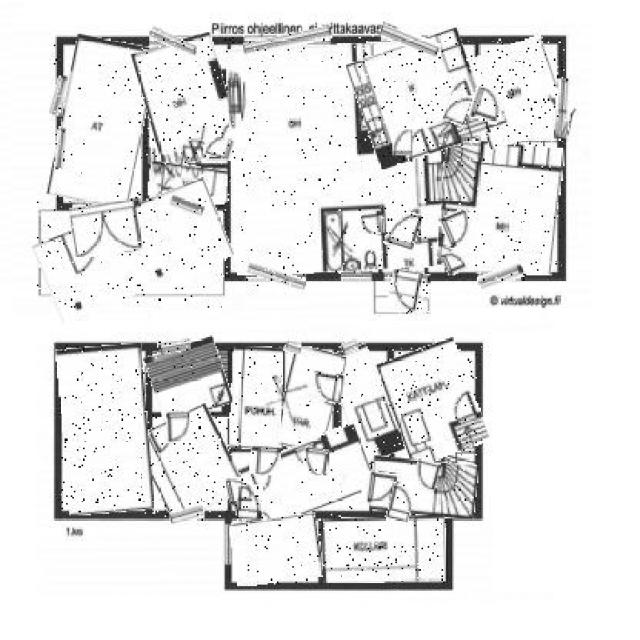door: (70, 198, 144, 256), (388, 271, 429, 314), (385, 211, 420, 251), (470, 88, 504, 123), (442, 211, 476, 246), (363, 474, 400, 504), (310, 372, 344, 403), (388, 483, 414, 523), (445, 92, 472, 126), (449, 398, 474, 434), (239, 486, 263, 520), (251, 448, 280, 475), (414, 460, 440, 489), (166, 411, 189, 443), (204, 136, 236, 158), (443, 249, 468, 274), (228, 477, 252, 503), (305, 448, 329, 474), (392, 130, 412, 156), (363, 212, 382, 234)
window: (243, 31, 332, 52), (378, 28, 440, 50), (246, 266, 306, 286), (151, 31, 200, 51), (478, 266, 524, 286), (557, 78, 569, 138), (170, 197, 204, 215), (52, 76, 66, 116), (158, 338, 191, 354), (170, 508, 204, 523), (56, 128, 66, 169), (342, 340, 358, 354), (286, 341, 302, 354)
zone: (229, 41, 451, 274), (37, 194, 229, 308), (354, 36, 486, 162), (440, 140, 563, 274), (54, 37, 151, 206), (60, 344, 151, 514), (226, 434, 374, 524), (138, 37, 235, 166), (384, 343, 482, 462), (143, 409, 239, 517), (471, 39, 566, 144), (323, 517, 446, 583), (332, 346, 396, 462), (280, 348, 342, 452), (371, 457, 478, 517), (148, 340, 229, 418), (232, 516, 322, 584), (231, 348, 283, 449), (148, 165, 228, 203)
